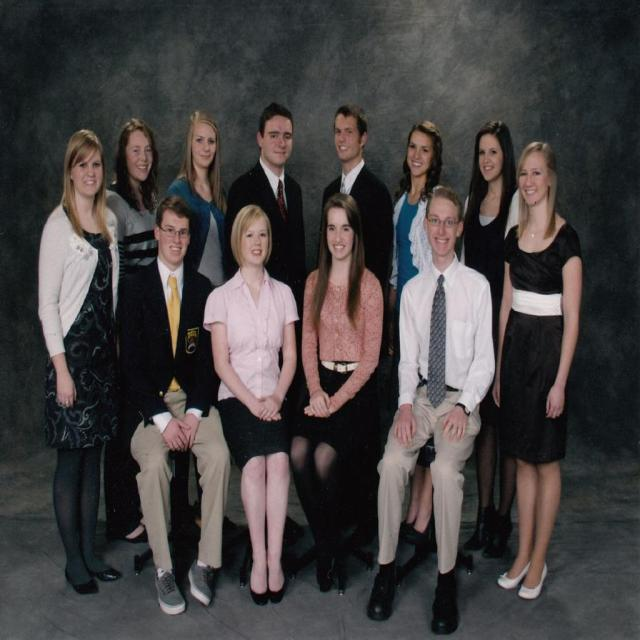Face: (517, 146, 559, 217), (69, 138, 108, 207), (426, 202, 461, 278), (155, 205, 194, 272), (405, 122, 442, 186), (472, 134, 515, 184), (325, 206, 358, 266), (239, 221, 274, 275), (126, 132, 159, 186), (266, 111, 299, 164), (333, 116, 361, 164), (194, 116, 218, 171)
